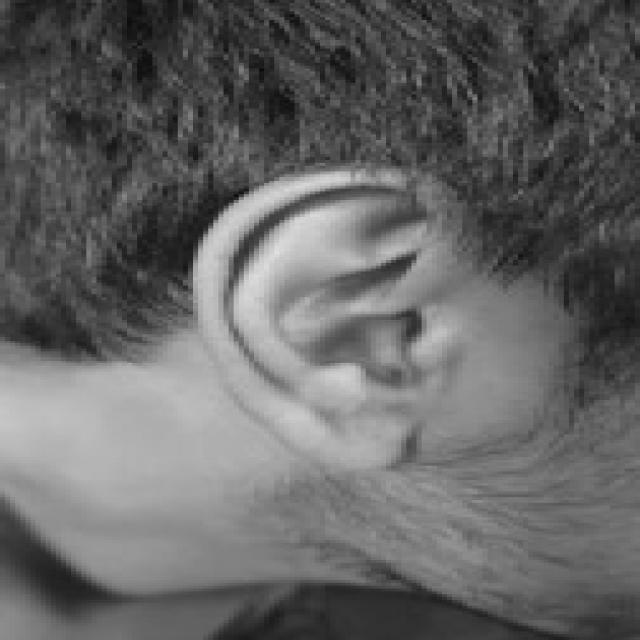ear: (193, 171, 452, 466)
